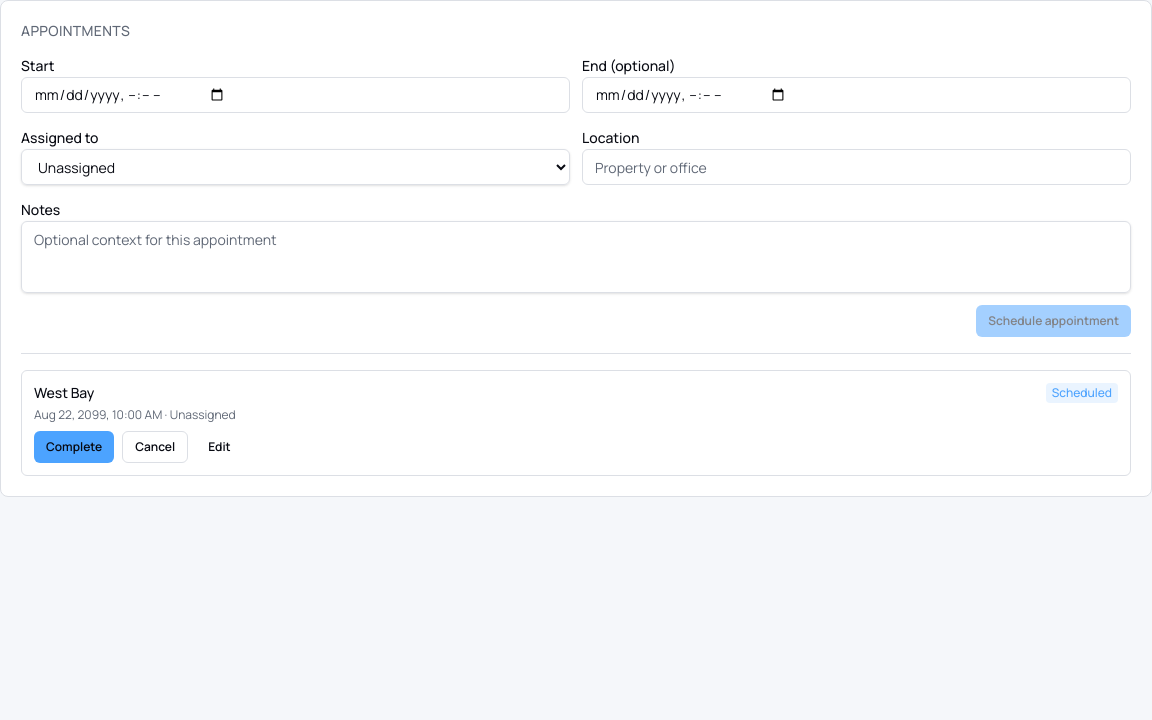
Test: AppointmentList › opens the edit form for a scheduled appointment
Expected: the text "West Bay" is shown, x1=34 y1=383 x2=94 y2=402
Click the button "Edit" at (219, 447), box x1=196 y1=431 x2=243 y2=463
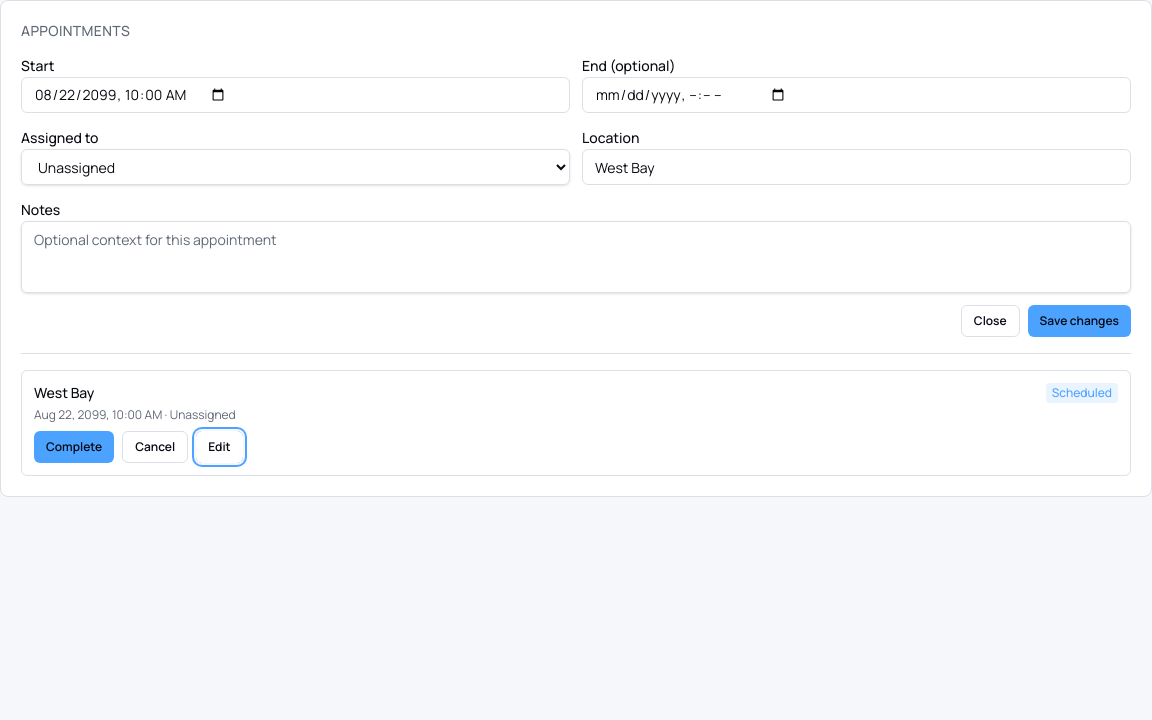
Now the form named "Edit appointment" is shown, box x1=21 y1=53 x2=1131 y2=337
Now the button "Save changes" is shown, box x1=1028 y1=305 x2=1131 y2=337
